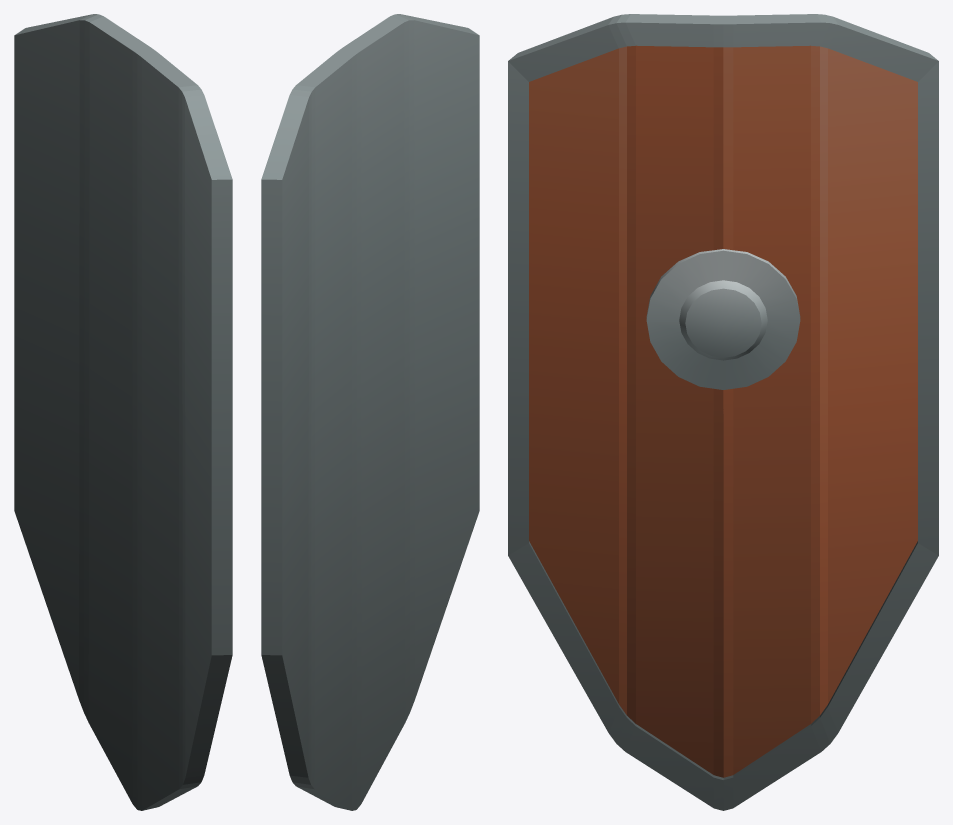
File: Long_shield.fbx
3 renders of one model, left to right at view 1: azimuth 30°, elevation 25°; view 2: azimuth 150°, elevation 25°; view 3: azimuth 270°, elevation 25°, orthographic. The views are drawn at different scales.
Parts seen in each view (by area): view 1: Long_shield; view 2: Long_shield; view 3: Long_shield.
Part boxes in pixels (x1,y1,x2,y2): Long_shield: [14, 14, 232, 810]; Long_shield: [261, 14, 479, 810]; Long_shield: [508, 14, 938, 810].
Bounding box in the file's own units: 0.0821 × 1.18 × 0.5856.
1 material, 1 textured.
